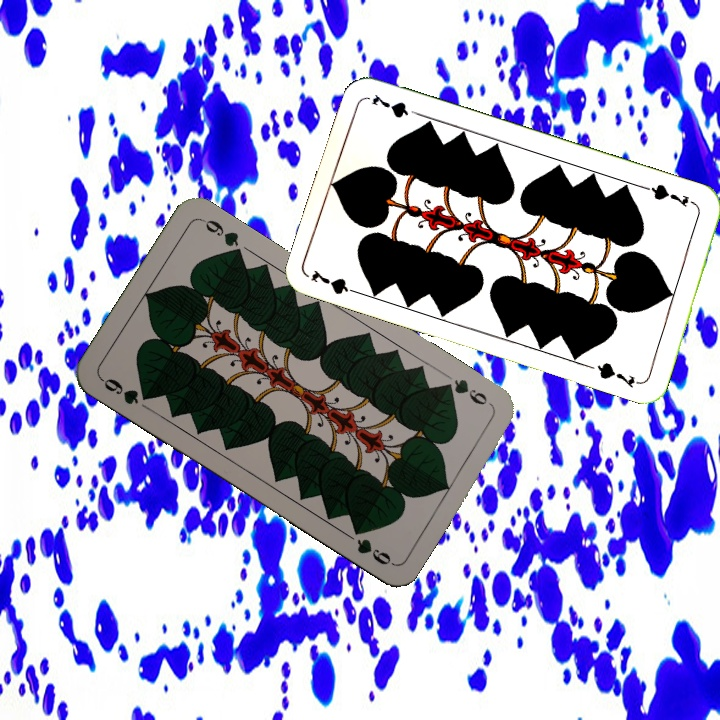G7: (307, 265, 365, 298), (642, 180, 699, 210)
G9: (97, 374, 155, 408), (437, 375, 495, 409)
